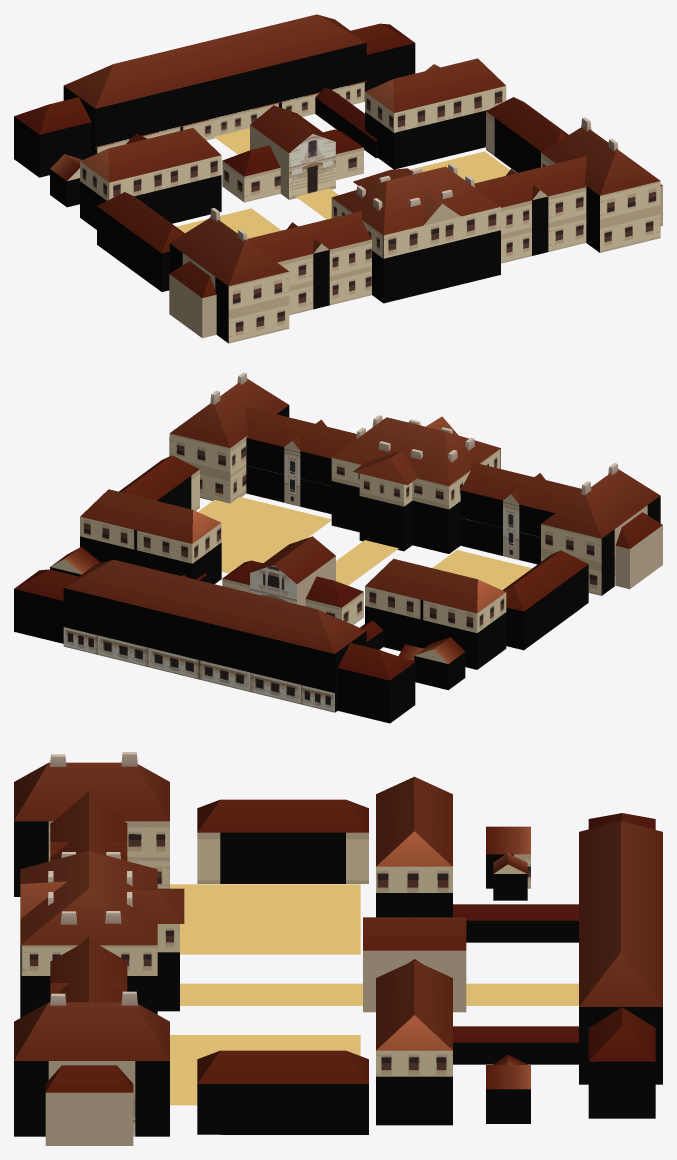
The model's file is SM_Building_AlbertSarrautHighSchool_01.fbx.
The picture shows the model from 3 angles, top to bottom: view 1: azimuth 30°, elevation 25°; view 2: azimuth 150°, elevation 25°; view 3: azimuth 270°, elevation 25°; orthographic projection. The views are drawn at different scales.
Parts seen in each view (by area): view 1: SM_Building_AlbertSarrautHighSchool_01; view 2: SM_Building_AlbertSarrautHighSchool_01; view 3: SM_Building_AlbertSarrautHighSchool_01.
Part boxes in pixels (left/top/right/bottom): SM_Building_AlbertSarrautHighSchool_01: left=14, top=14, right=662, bottom=343; SM_Building_AlbertSarrautHighSchool_01: left=14, top=372, right=662, bottom=723; SM_Building_AlbertSarrautHighSchool_01: left=14, top=752, right=662, bottom=1145.
Size of the model in its own units: 210 by 42.01 by 194.
